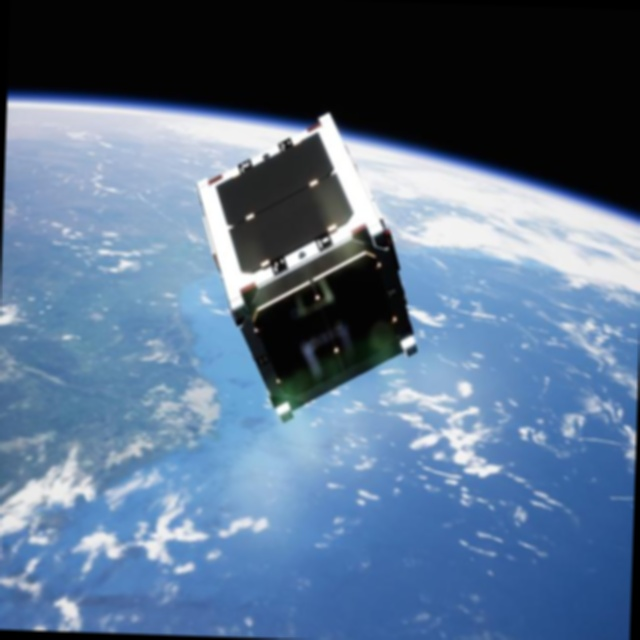satellite: (185, 110, 425, 429)
